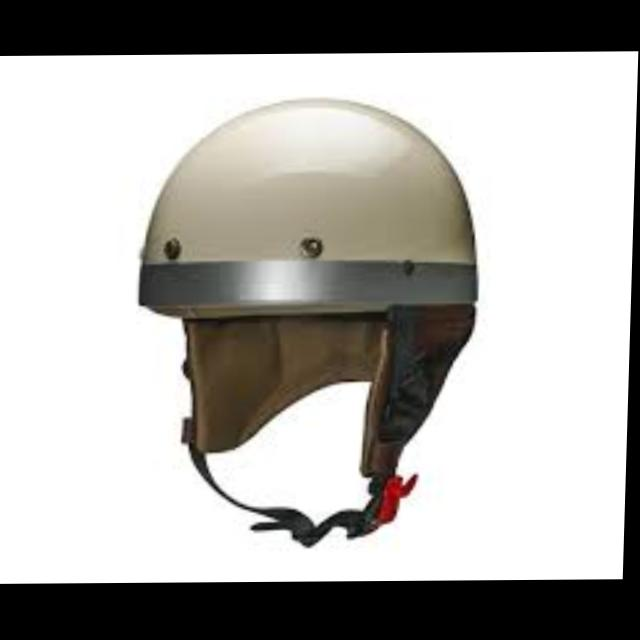motorcycle-helmets: (103, 97, 506, 559)
